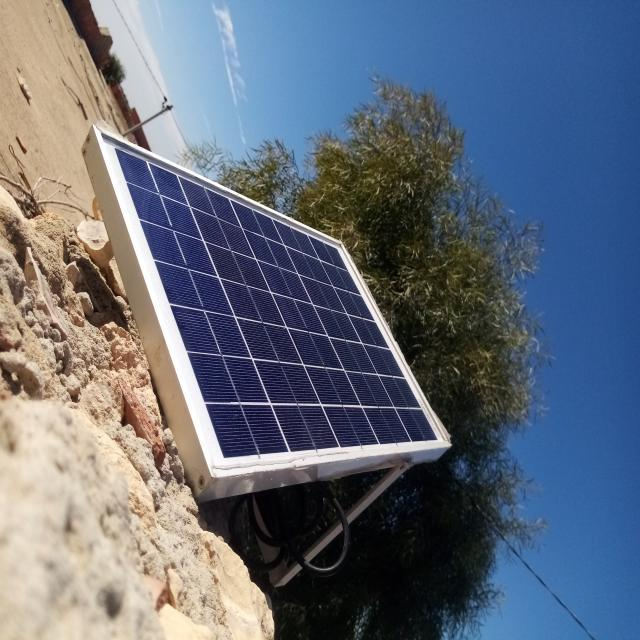no faulty: (95, 131, 446, 476)
